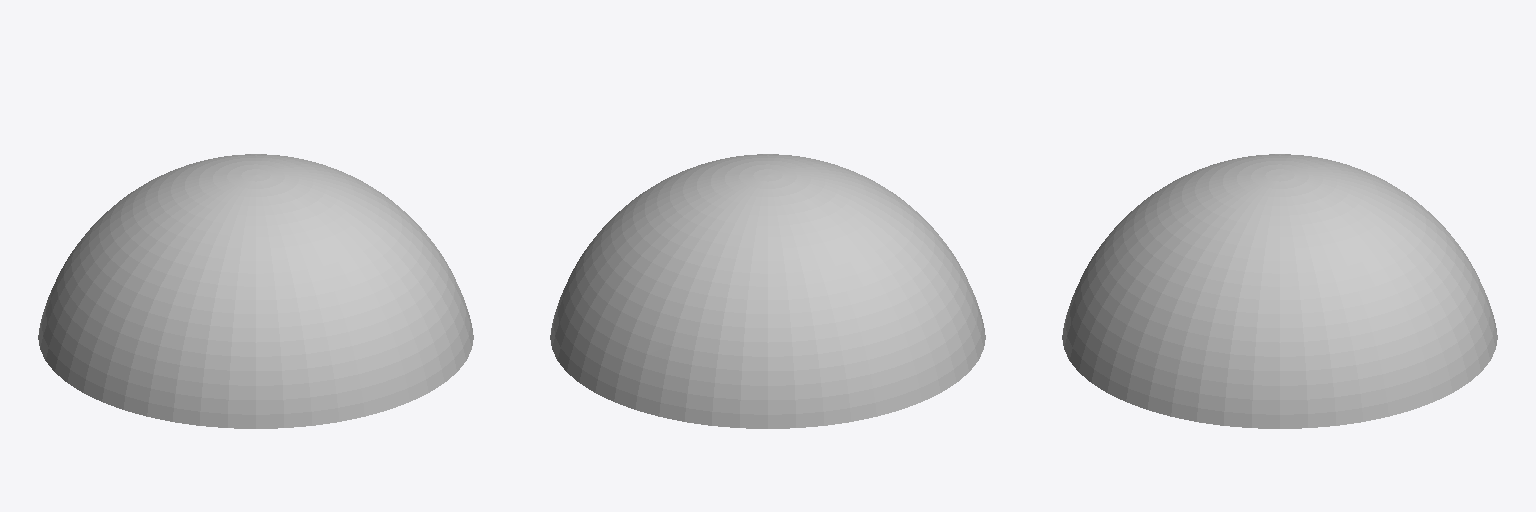
File: hemisphere.obj
3 renders of one model, left to right at view 1: azimuth 30°, elevation 25°; view 2: azimuth 150°, elevation 25°; view 3: azimuth 270°, elevation 25°, orthographic.
Parts seen in each view (by area): view 1: head_; view 2: head_; view 3: head_.
Boxes of the visible parts, x1=… form: head_: x1=38, y1=154, x2=473, y2=428; head_: x1=550, y1=154, x2=985, y2=428; head_: x1=1062, y1=154, x2=1497, y2=428.
Size of the model in its own units: 1.92 by 0.7888 by 1.92.